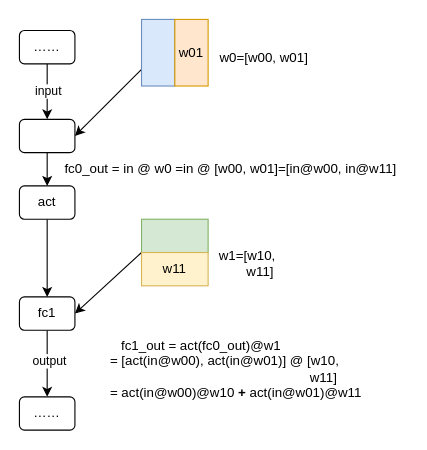
This 427x450 diagram has some shape labels left out. Here are the shapes that lost their labels. From the top down, the centre of each, then its label:
At (157,52): "w00".
At (46,135): "fc0".
At (174,235): "w10".
